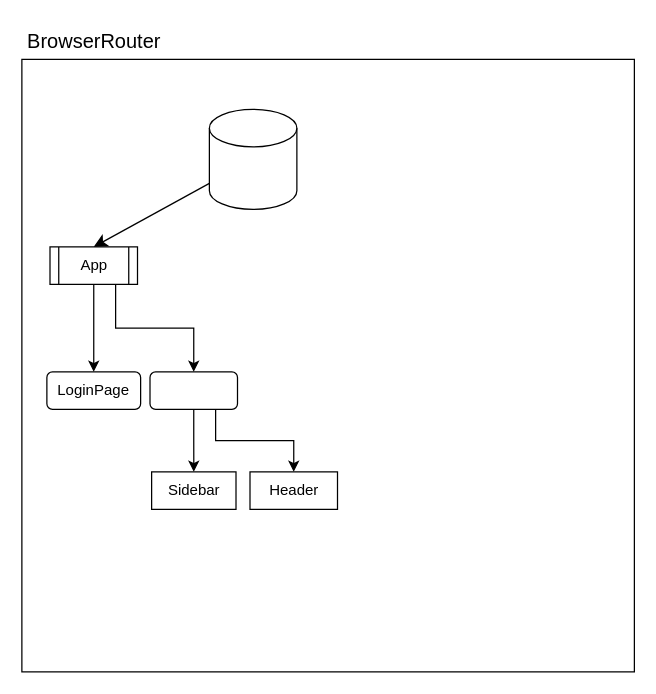
The diagram is 656 pixels wide and 694 high, and some of its shapes have lost their labels. Each missing label, with the box of its shape:
AuthContext: (208, 108, 297, 209)
MainPage: (149, 371, 238, 409)
